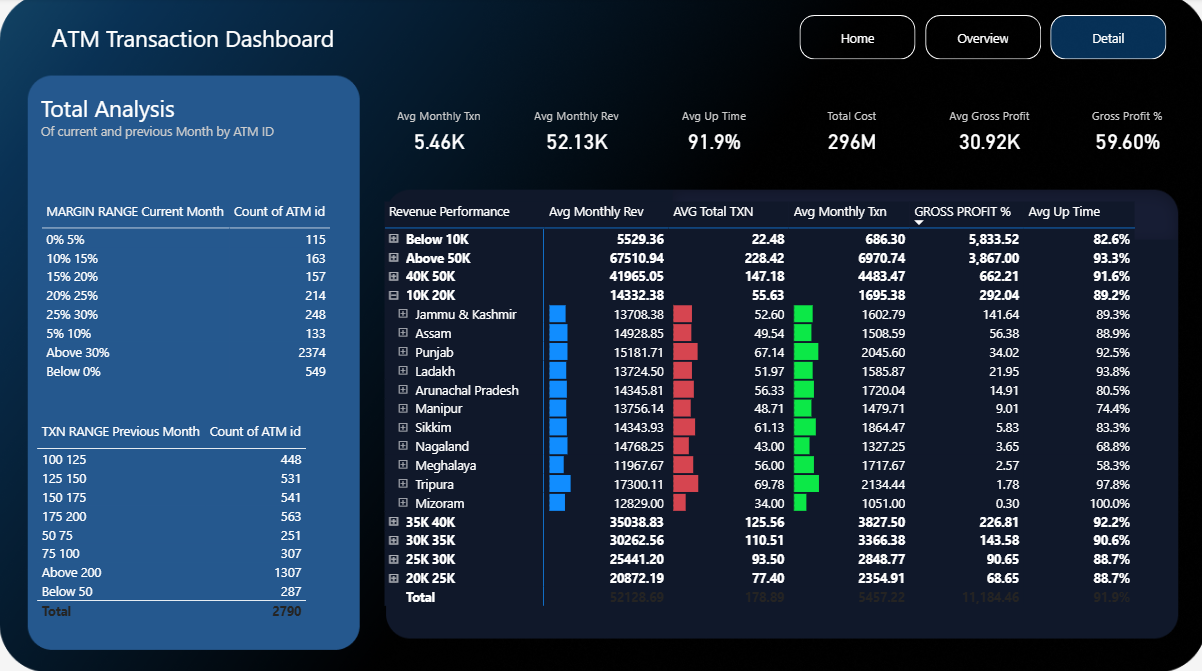

Layout of this report page (visuals, bound fields, positions):
{"tool":"powerbi","page":{"name":"Detail","canvas":[1280,720],"ordinal":2},"visuals":[{"type":"tableEx","fields":{"Values":["Dataset.MARGIN RANGE Current Month","Dataset.ATM id"]},"box":[38.2,211.6,334,206.8],"z":0},{"type":"tableEx","fields":{"Values":["Dataset.TXN RANGE Previous Month","Dataset.ATM id"]},"box":[33.4,445.4,342,245],"z":1000},{"type":"textbox","box":[38.2,95.4,330.8,71.6],"z":2000},{"type":"pivotTable","fields":{"Rows":["Dataset.Revenue Performance","Dataset.STATE","Dataset.ATM id"],"Values":["Avg(Dataset.Monthly Rev)","Avg(Dataset.AVG Total TXN)","Avg(Dataset.Monthly Txn)","Sum(Dataset.GROSS PROFIT %)","Avg(Dataset.Up Time)"]},"box":[402.4,211.6,838.3,466],"z":3000},{"type":"pageNavigator","box":[847.8,19.1,391.3,47.7],"z":4000},{"type":"cardVisual","fields":{"Data":["Avg(Dataset.Monthly Txn)","Avg(Dataset.Monthly Rev)","Avg(Dataset.Up Time)","Sum(Dataset. Total Cost  )","Avg(Dataset. Gross Profit )","Dataset.Gross Profit Percentage"]},"box":[391.3,87.5,881.2,108.2],"z":5000},{"type":"textbox","box":[49.3,19.1,314.9,54.1],"z":6000}]}

Visuals, with their boxes in screenshot pixels (x1, y1, x2, y2), scaled from the page's 1280x720 canvas onto the 1202x671 screenshot:
tableEx - Dataset.MARGIN RANGE Current Month x Dataset.ATM id: [36,197,350,390]
tableEx - Dataset.TXN RANGE Previous Month x Dataset.ATM id: [31,415,353,643]
textbox: [36,89,347,156]
pivotTable - Dataset.Revenue Performance x Dataset.STATE: [378,197,1165,631]
pageNavigator: [796,18,1164,62]
cardVisual - Avg(Dataset.Monthly Txn) x Avg(Dataset.Monthly Rev): [367,82,1195,182]
textbox: [46,18,342,68]
